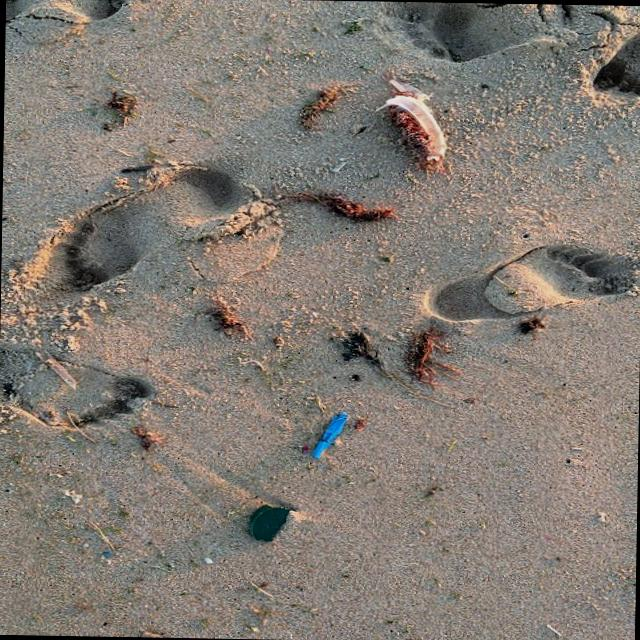Trash: (298, 402, 359, 466), (245, 496, 290, 550)
